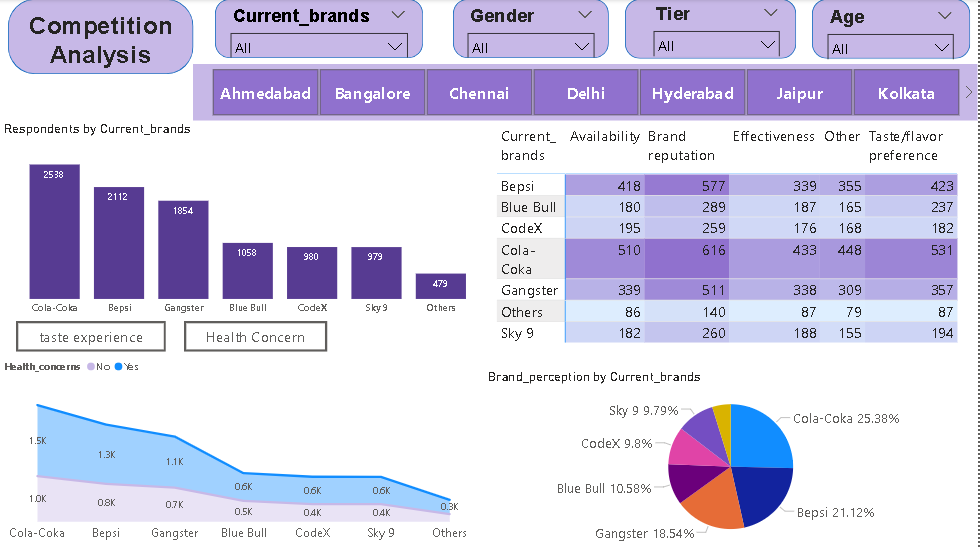

Layout of this report page (visuals, bound fields, positions):
{"tool":"powerbi","page":{"name":"Competition Analysis","canvas":[1280,720],"ordinal":3},"visuals":[{"type":"shape","box":[1062.7,0,207.1,78.1],"z":0},{"type":"shape","box":[818.2,0,224.1,78.1],"z":1000},{"type":"shape","box":[592.4,0,203.9,77.4],"z":2000},{"type":"shape","box":[281.3,0,272.4,77.4],"z":3000},{"type":"shape","box":[10.4,0,242.6,98.2],"z":4000},{"type":"textbox","box":[10.4,10.4,242.6,87.8],"z":5000},{"type":"columnChart","fields":{"Y":["Measuretable.Total_People"],"Category":["fact_survey_responses.Current_brands"]},"box":[0,159.3,650.4,262],"z":6000},{"type":"pivotTable","fields":{"Values":["Measuretable.Total_People"],"Columns":["fact_survey_responses.Reasons_for_choosing_brands"],"Rows":["fact_survey_responses.Current_brands"]},"box":[646,159.3,634,300.7],"z":7000},{"type":"slicer","fields":{"Values":["dim_cities.City"]},"box":[253,84.8,1027,74.4],"z":8000},{"type":"slicer","fields":{"Values":["dim_repondents.Gender"]},"box":[602.8,3,186,74.4],"z":9000},{"type":"slicer","fields":{"Values":["fact_survey_responses.Current_brands"]},"box":[291.7,3,251.5,74.4],"z":10000},{"type":"slicer","fields":{"Values":["dim_repondents.Age"]},"box":[1072.9,3.4,185,74.7],"z":11000},{"type":"slicer","fields":{"Values":["dim_cities.Tier"]},"box":[845.4,0,185,74.7],"z":12000},{"type":"stackedAreaChart","fields":{"Category":["fact_survey_responses.Current_brands"],"Series":["fact_survey_responses.Health_concerns"],"Y":["Measuretable.Respondents"]},"box":[0,461.4,629.6,259],"z":13000},{"type":"pieChart","title":"Brand_perception by Current_brands","fields":{"Category":["fact_survey_responses.Current_brands"],"Y":["CountNonNull(fact_survey_responses.Brand_perception)"]},"box":[634,483.7,646,236.7],"z":15000},{"type":"actionButton","box":[20.8,421.2,196.5,40.2],"z":16000},{"type":"actionButton","box":[241.1,421.2,187.5,40.2],"z":17000}]}

Visuals, with their boxes in screenshot pixels (x1, y1, x2, y2), scaled from the page's 1280x720 canvas onto the 980x549 screenshot:
shape: [x1=814, y1=0, x2=972, y2=60]
shape: [x1=626, y1=0, x2=798, y2=60]
shape: [x1=454, y1=0, x2=610, y2=59]
shape: [x1=215, y1=0, x2=424, y2=59]
shape: [x1=8, y1=0, x2=194, y2=75]
textbox: [x1=8, y1=8, x2=194, y2=75]
columnChart - Measuretable.Total_People x fact_survey_responses.Current_brands: [x1=0, y1=121, x2=498, y2=321]
pivotTable - Measuretable.Total_People x fact_survey_responses.Reasons_for_choosing_brands: [x1=495, y1=121, x2=979, y2=351]
slicer - dim_cities.City: [x1=194, y1=65, x2=979, y2=121]
slicer - dim_repondents.Gender: [x1=462, y1=2, x2=604, y2=59]
slicer - fact_survey_responses.Current_brands: [x1=223, y1=2, x2=416, y2=59]
slicer - dim_repondents.Age: [x1=821, y1=3, x2=963, y2=60]
slicer - dim_cities.Tier: [x1=647, y1=0, x2=789, y2=57]
stackedAreaChart - fact_survey_responses.Current_brands x fact_survey_responses.Health_concerns: [x1=0, y1=352, x2=482, y2=548]
"Brand_perception by Current_brands" pieChart: [x1=485, y1=369, x2=979, y2=548]
actionButton: [x1=16, y1=321, x2=166, y2=352]
actionButton: [x1=185, y1=321, x2=328, y2=352]
